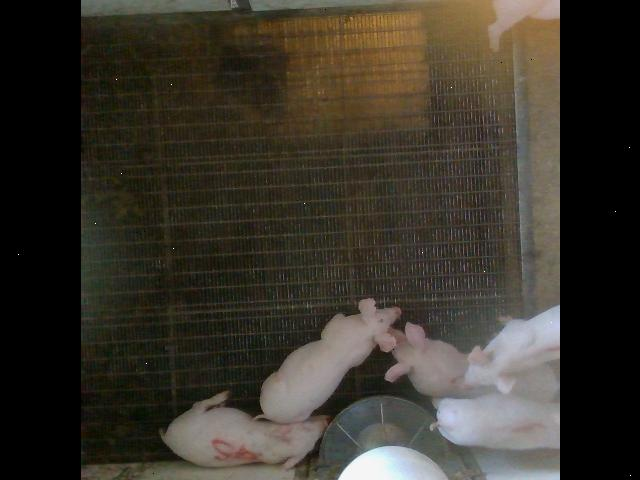pig-1: (430, 394, 558, 449)
pig-3: (385, 322, 494, 398), (511, 365, 558, 401)
pig-4: (464, 305, 559, 394)
pig-5: (160, 391, 327, 469)
